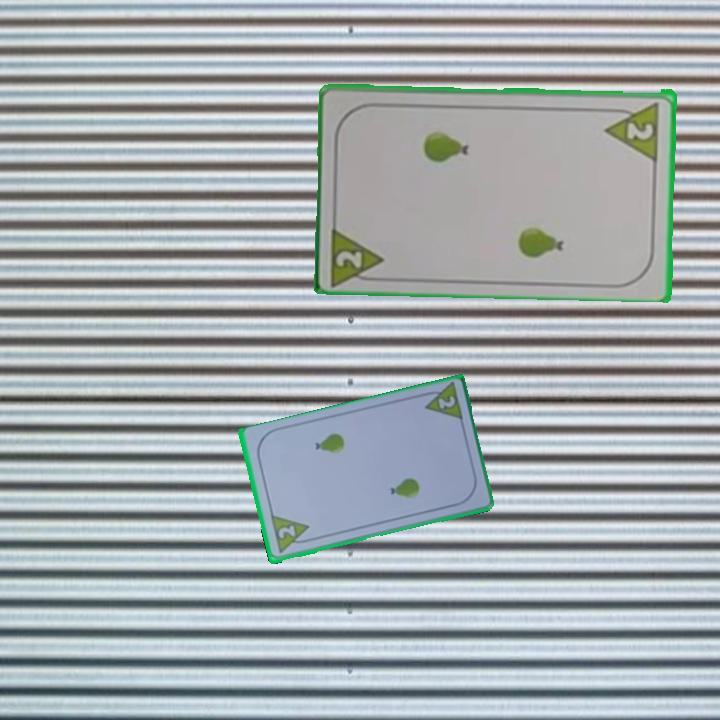2p: (327, 220, 388, 286), (603, 98, 662, 161), (417, 381, 466, 425), (267, 513, 314, 557)
